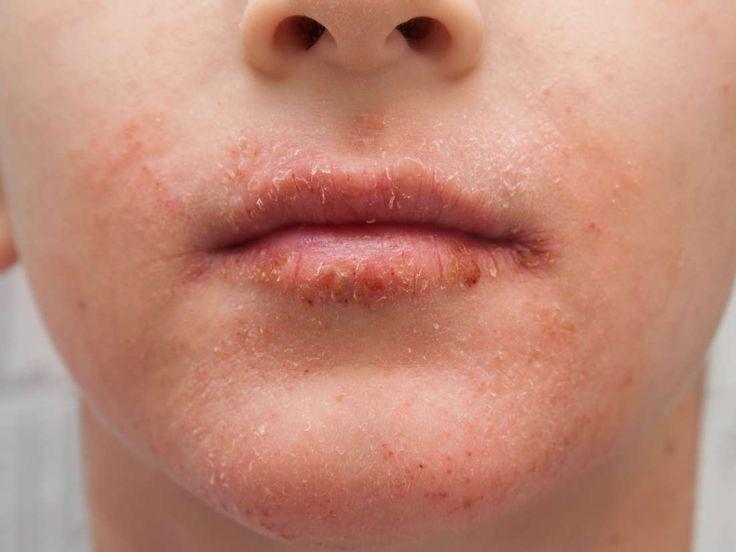Dry-Skin: (267, 169, 476, 304), (356, 413, 430, 489), (110, 143, 170, 220), (520, 399, 583, 467), (214, 436, 281, 499), (576, 160, 629, 239), (123, 330, 193, 381), (196, 329, 264, 381), (451, 451, 496, 501), (224, 159, 261, 191)
